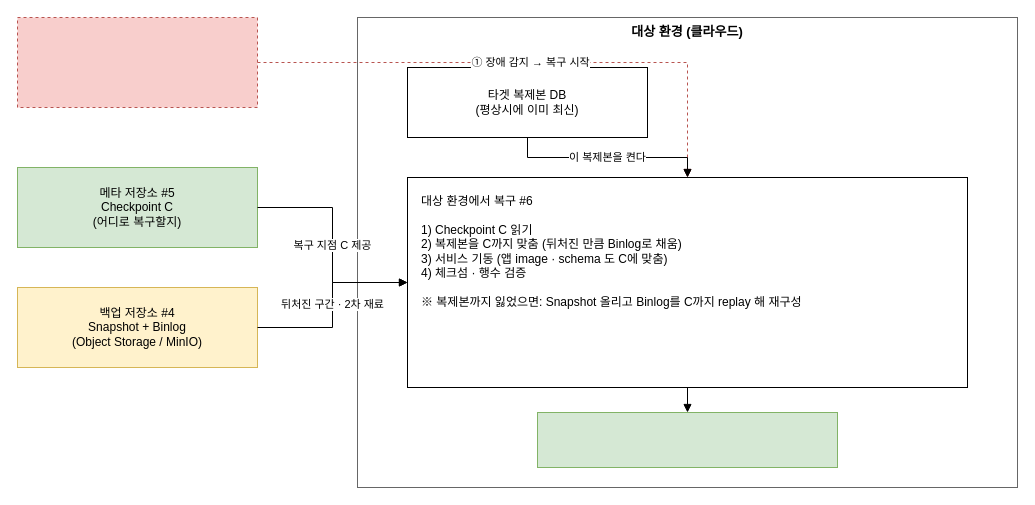
This 1035x505 diagram has some shape labels left out. Each missing label, with the centre of its shape:
"서비스 재가동 완료 (최신 상태로)" goes at (x=687, y=440).
"온프레미스 환경 장애 발생 (서버 다운)" goes at (x=137, y=62).
